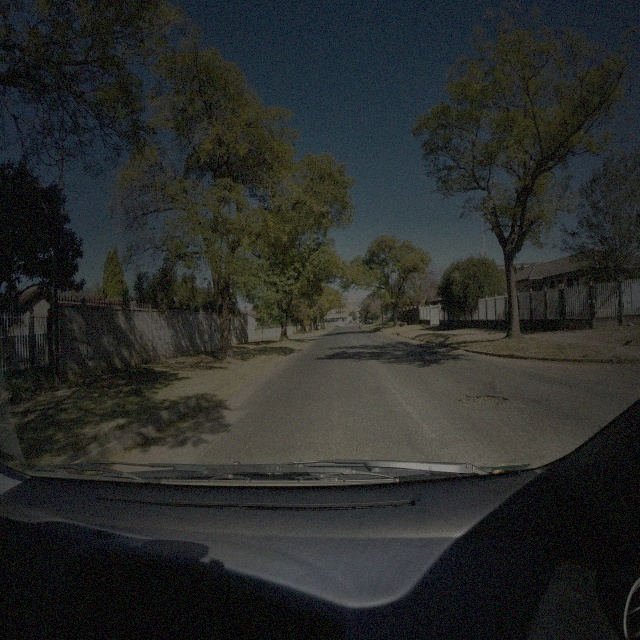pothole: (459, 392, 510, 411)
